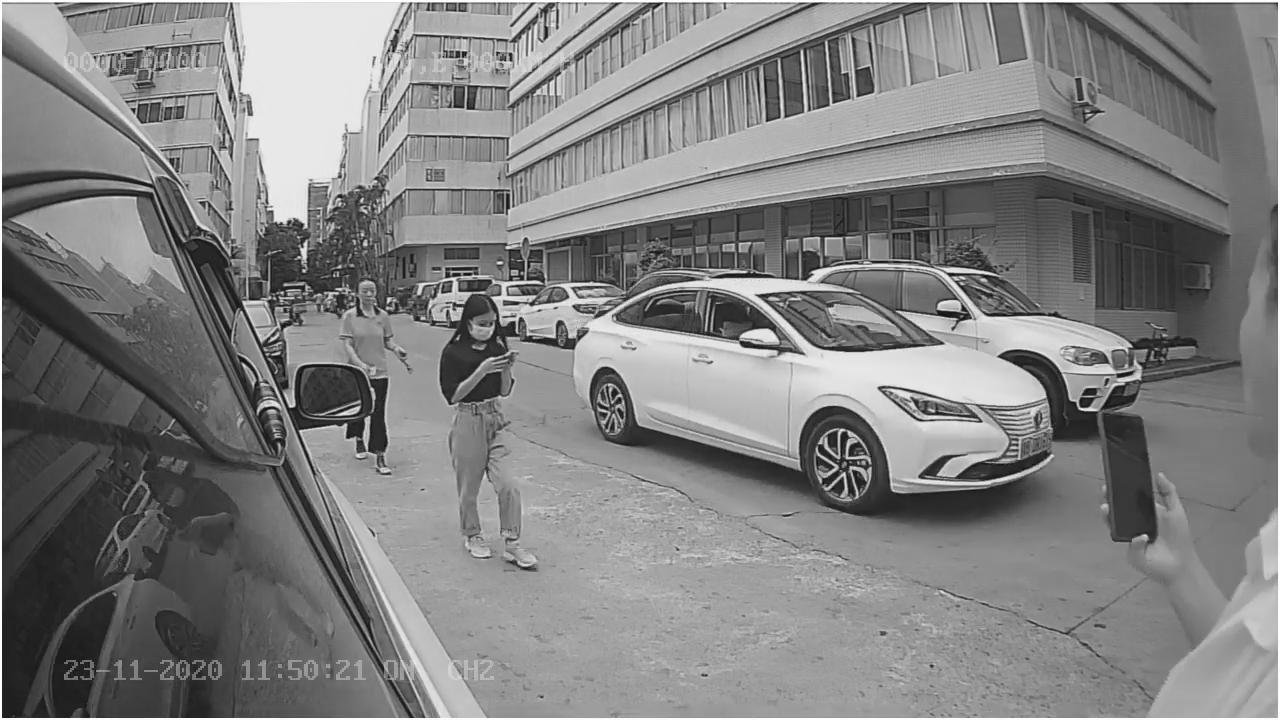person: (434, 287, 541, 570)
